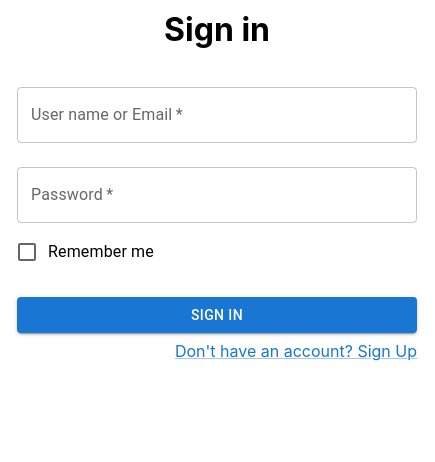
Test: SignIn Screen › server response sign in request › show 1 error message when submited with incorrect uername and password
Step 1. Type "random@gmail.com" into the field labelled "User name or Email *" → (217, 115), box [17,87,417,143]
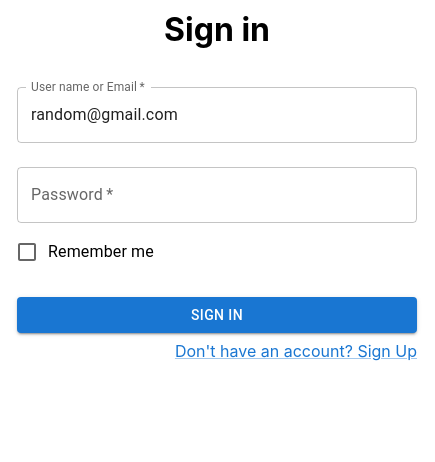
Step 2. Type "123" into the password field labelled "Password *" → (217, 195), box [17,167,417,223]
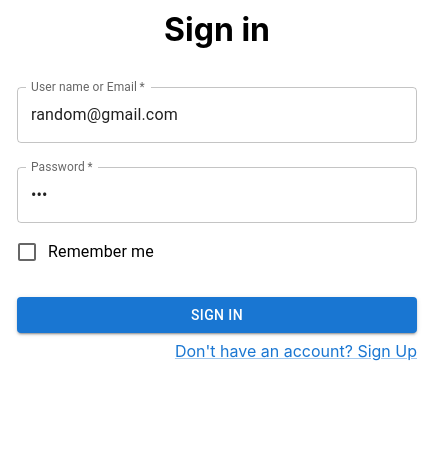
Step 3. Click the button with test id "btn-submit" → (217, 315), box [17,297,417,333]
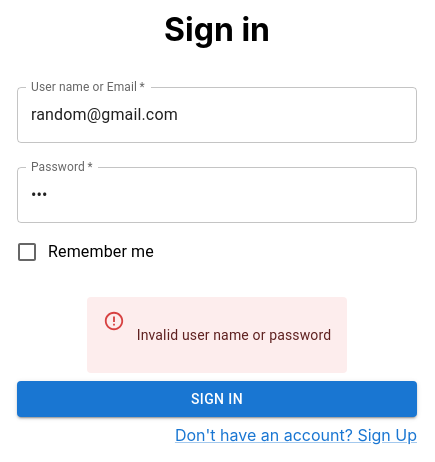
expect the text "Invalid user name or password" is shown: met, box [137,325,331,345]
